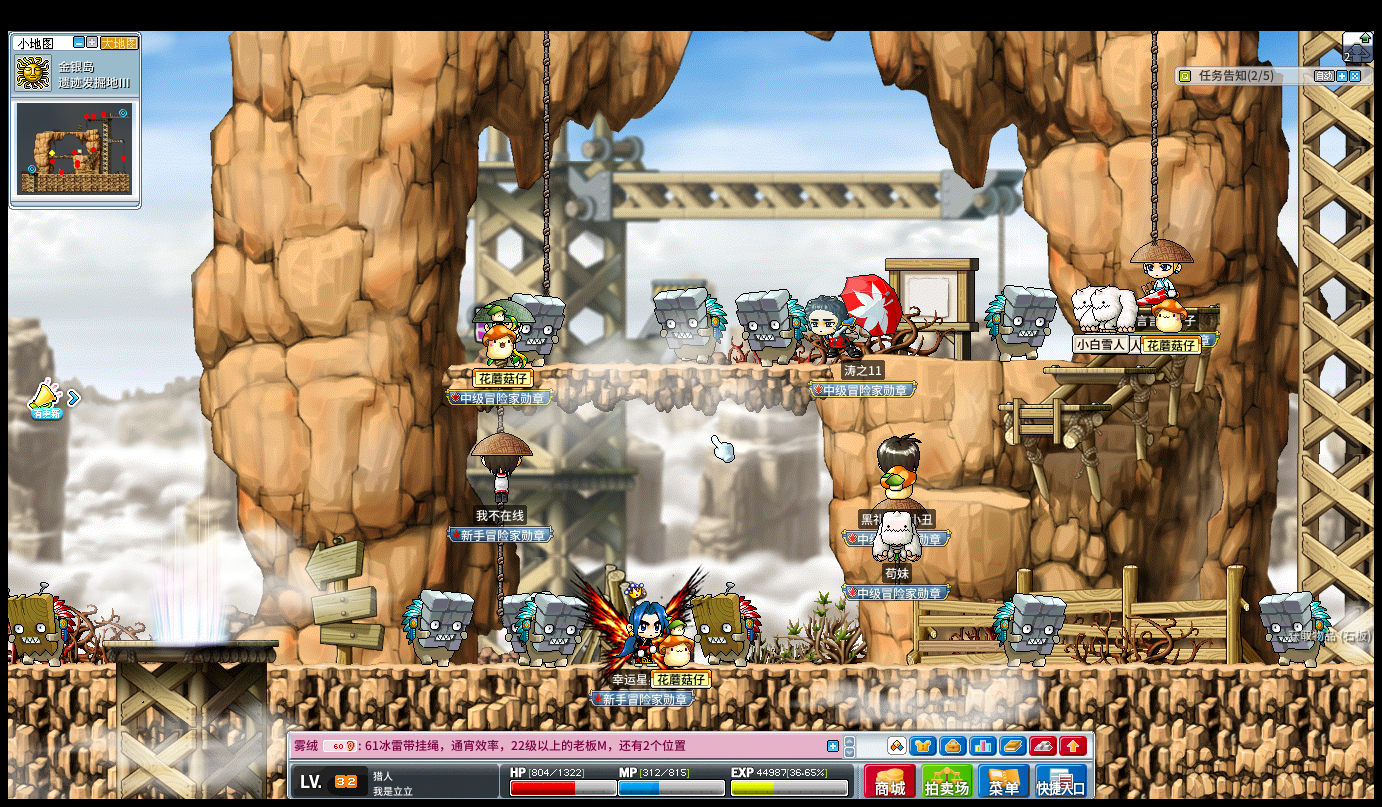floor: (453, 360, 827, 374), (932, 487, 1030, 507), (924, 356, 1077, 367), (102, 638, 278, 647), (7, 662, 117, 674), (996, 402, 1110, 412), (1044, 367, 1152, 377), (1042, 366, 1161, 375)
monster: (685, 586, 763, 666), (4, 586, 76, 666), (400, 589, 475, 665), (653, 287, 726, 365), (1258, 591, 1331, 667), (984, 285, 1056, 360), (514, 592, 585, 668), (737, 287, 806, 365), (993, 593, 1066, 665), (518, 293, 567, 365)
rope: (540, 26, 551, 315), (1146, 29, 1160, 240), (1147, 83, 1159, 240), (493, 542, 503, 603)
